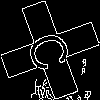C: (25, 25, 81, 76)
